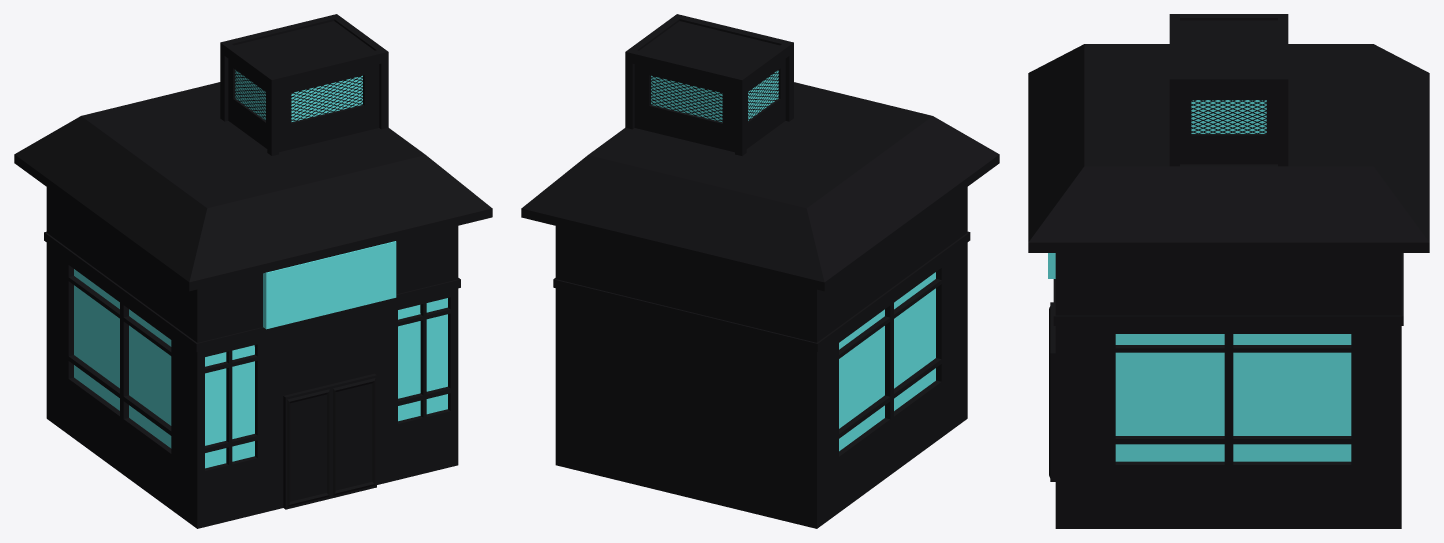
3 views of the same model, side by side, from view 1: azimuth 30°, elevation 25°; view 2: azimuth 150°, elevation 25°; view 3: azimuth 270°, elevation 25° (orthographic). The views are drawn at different scales.
Visible parts, largest first — view 1: Box014; view 2: Box014; view 3: Box014.
Part boxes in pixels (x1=…): Box014: x1=14, y1=14, x2=492, y2=528; Box014: x1=521, y1=14, x2=999, y2=528; Box014: x1=1028, y1=14, x2=1429, y2=528.
Bounding box in the file's own units: 55.46 × 66.8 × 55.46.
